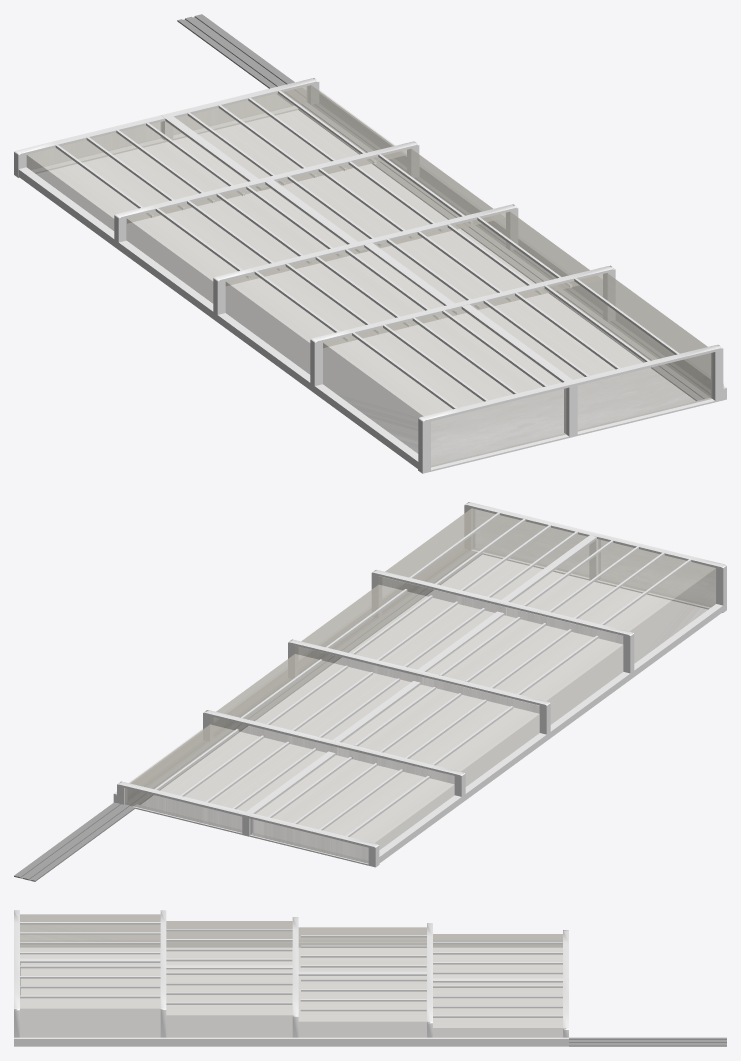
File: rollerCoverElisa.glb
3 views of the same model, one above another, from view 1: azimuth 30°, elevation 25°; view 2: azimuth 150°, elevation 25°; view 3: azimuth 270°, elevation 25° (orthographic). The views are drawn at different scales.
Visible parts, largest first — view 1: Plane, Line001, Line009.001, Cube.050, Line009, Line011, Line001.001, Line004, Line010, Line012, Line013; view 2: Plane, Line001, Line009.001, Cube.050, Line009, Line011, Line001.001, Line004, Line010, Line013, Line012; view 3: Plane, Line001.001, Cube.050, Line009.001, Line009, Line001, Line011, Line004, Line010, Cube.028, Cube.026, Cube.002 (+29 smaller).
Boxes of the visible parts, x1,y1,x2,y2 form: Plane: [26, 85, 712, 467]; Line001: [177, 14, 710, 400]; Line009.001: [217, 265, 615, 468]; Cube.050: [161, 113, 577, 436]; Line009: [118, 204, 518, 322]; Line011: [18, 141, 419, 249]; Line001.001: [319, 90, 726, 399]; Line004: [418, 345, 723, 472]; Line010: [14, 78, 319, 176]; Line012: [418, 398, 723, 473]; Line013: [14, 106, 297, 177]; Plane: [124, 508, 716, 863]; Line001: [14, 549, 482, 881]; Line009.001: [371, 570, 723, 737]; Cube.050: [242, 535, 600, 836]; Line009: [288, 639, 550, 799]; Line011: [203, 710, 465, 863]; Line001.001: [113, 542, 463, 802]; Line004: [464, 502, 726, 611]; Line010: [116, 781, 379, 866]; Line013: [133, 804, 379, 867]; Line012: [469, 548, 726, 612]; Plane: [20, 914, 562, 1037]; Line001.001: [14, 1037, 568, 1046]; Cube.050: [20, 958, 568, 995]; Line009.001: [20, 910, 292, 1037]; Line009: [292, 917, 426, 1037]; Line001: [569, 1037, 726, 1046]; Line011: [427, 923, 562, 1037]; Line004: [14, 910, 19, 1037]; Line010: [563, 930, 568, 1037]; Cube.028: [19, 965, 160, 968]; Cube.026: [19, 995, 160, 998]; Cube.002: [166, 958, 292, 961].
Size of the model in its own units: 1.52 by 0.2553 by 4.55.
3 materials, 1 textured.
